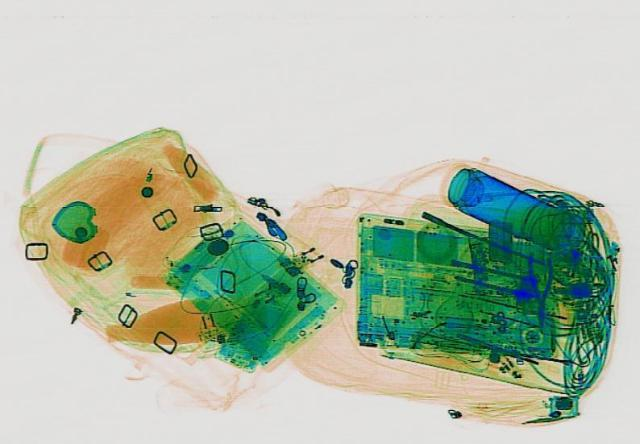Pliers: (525, 250, 555, 332)
